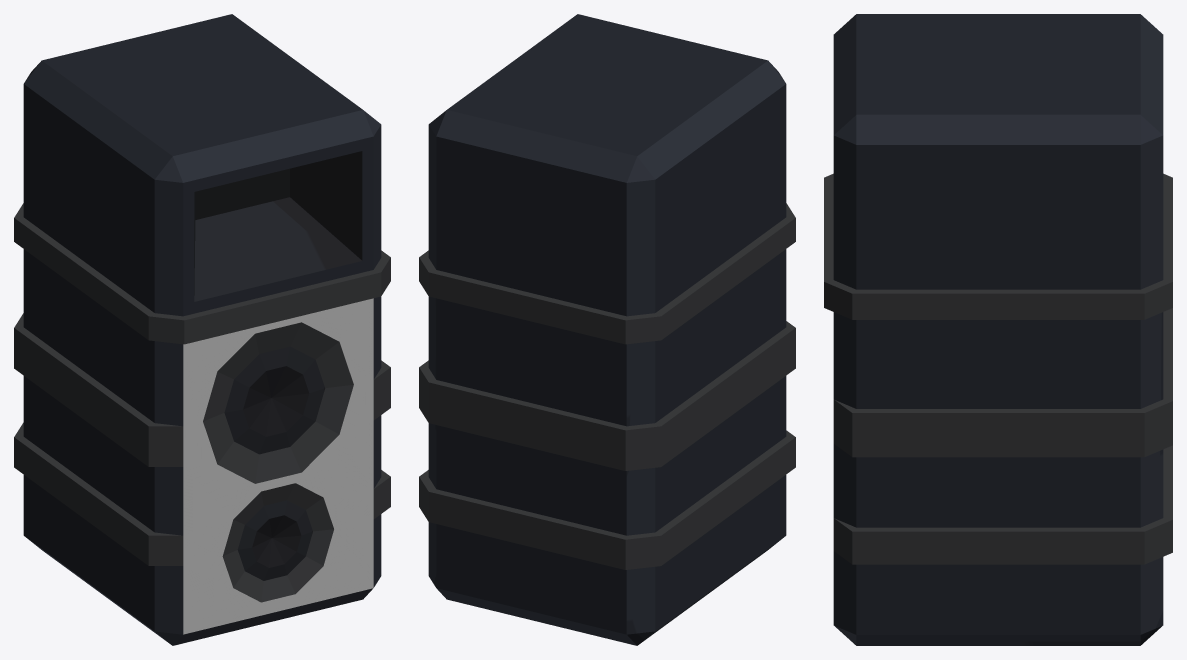
The model's file is TallSpeaker.fbx.
3 renders of one model, left to right at view 1: azimuth 30°, elevation 25°; view 2: azimuth 150°, elevation 25°; view 3: azimuth 270°, elevation 25°, orthographic. The views are drawn at different scales.
Parts seen in each view (by area): view 1: speaker; view 2: speaker; view 3: speaker.
Part boxes in pixels (x1,y1,x2,y2): speaker: (14, 14, 390, 645); speaker: (419, 14, 795, 645); speaker: (824, 14, 1172, 645).
Bounding box in the file's own units: 69.19 × 134 × 79.58.
Materials: 2 (1 with a texture image).
